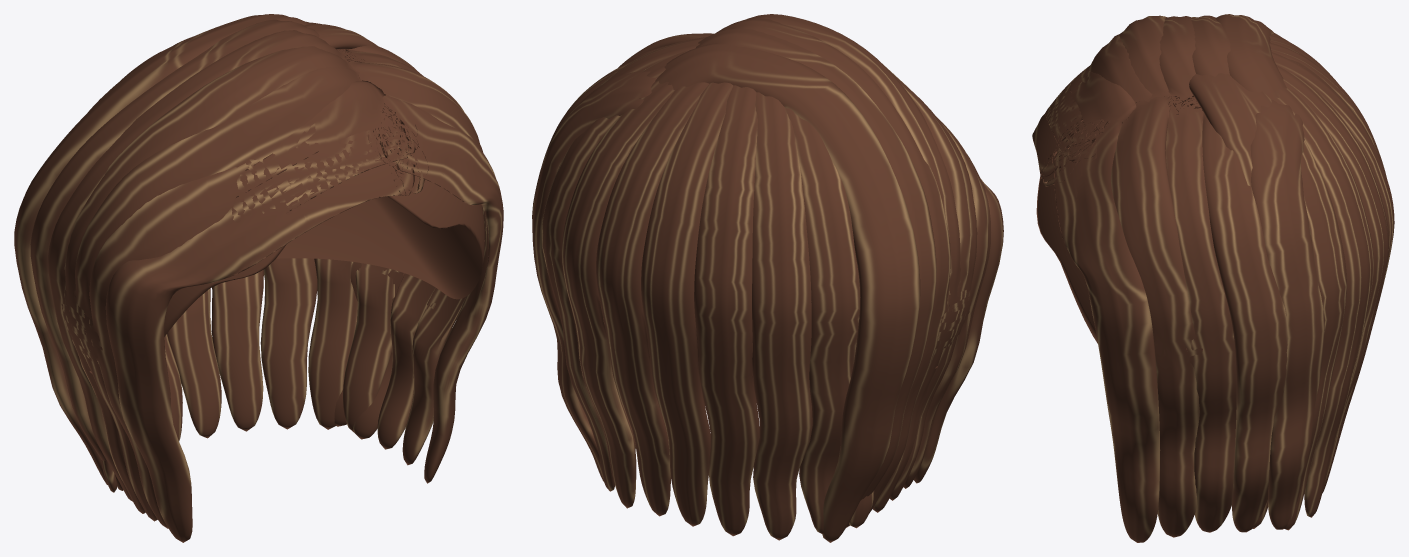
File: Highlights-0aad4aa9bf81252-hair.glb
3 renders of one model, left to right at view 1: azimuth 30°, elevation 25°; view 2: azimuth 150°, elevation 25°; view 3: azimuth 270°, elevation 25°, orthographic. The views are drawn at different scales.
Parts seen in each view (by area): view 1: 226 hair / Hair / sculpted 0.001, 226 hair / Hair / sculpted 1.002, 226 hair / Hair / sculpted 2.001, 226 hair / Hair / sculpted 1.001; view 2: 226 hair / Hair / sculpted 0.001, 226 hair / Hair / sculpted 2.001, 226 hair / Hair / sculpted 1.002; view 3: 226 hair / Hair / sculpted 1.002, 226 hair / Hair / sculpted 2.001, 226 hair / Hair / sculpted 0.001, 226 hair / Hair / sculpted 1.001.
Boxes of the visible parts, box(x1,y1,x2,y2) form: 226 hair / Hair / sculpted 0.001: box(14, 14, 435, 542); 226 hair / Hair / sculpted 1.002: box(48, 24, 503, 528); 226 hair / Hair / sculpted 2.001: box(30, 19, 486, 521); 226 hair / Hair / sculpted 1.001: box(89, 179, 484, 373); 226 hair / Hair / sculpted 0.001: box(561, 14, 1003, 542); 226 hair / Hair / sculpted 2.001: box(532, 28, 977, 533); 226 hair / Hair / sculpted 1.002: box(532, 18, 990, 540); 226 hair / Hair / sculpted 1.002: box(1045, 16, 1389, 542); 226 hair / Hair / sculpted 2.001: box(1068, 15, 1394, 537); 226 hair / Hair / sculpted 0.001: box(1032, 14, 1386, 532); 226 hair / Hair / sculpted 1.001: box(1036, 176, 1097, 343).
Bounding box in the file's own units: 1.02 × 1.11 × 0.8091.
4 materials, 4 textured.
